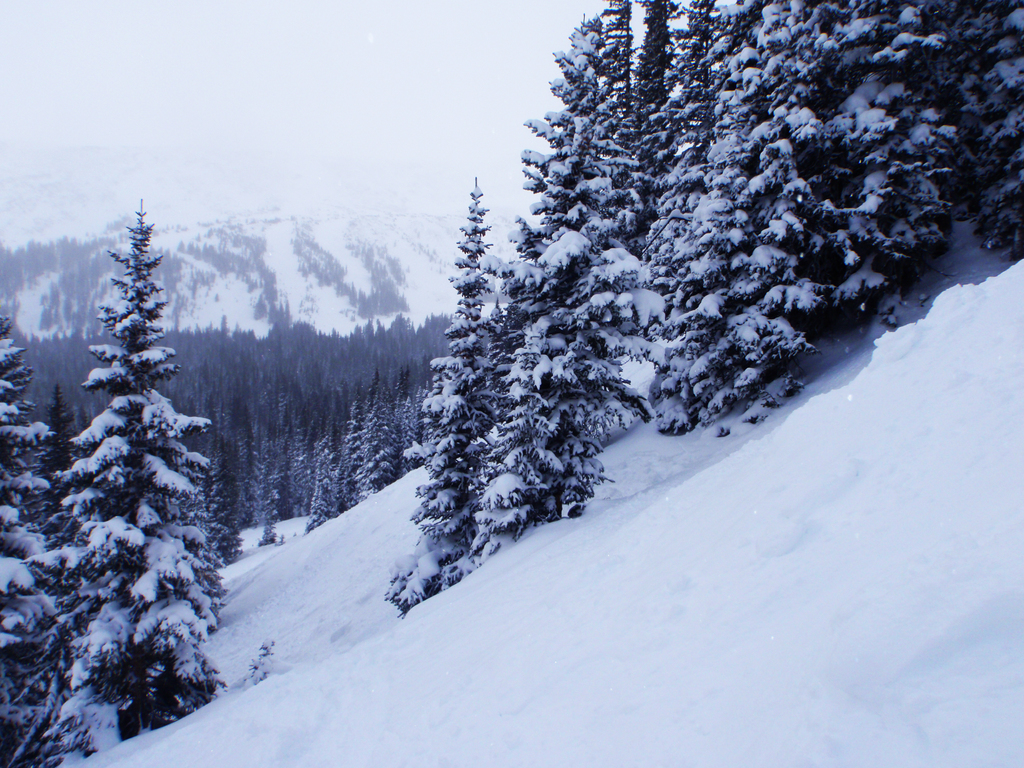Tree: (464, 12, 661, 541), (48, 192, 234, 749), (632, 0, 826, 444), (384, 174, 497, 604), (815, 0, 950, 335), (0, 288, 58, 767), (620, 0, 712, 253), (934, 0, 1023, 261), (298, 435, 343, 531), (332, 406, 362, 520), (346, 407, 380, 503), (254, 455, 280, 543)
